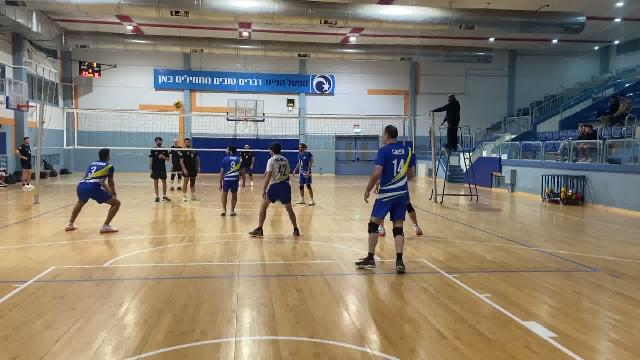ball: (172, 96, 186, 113)
